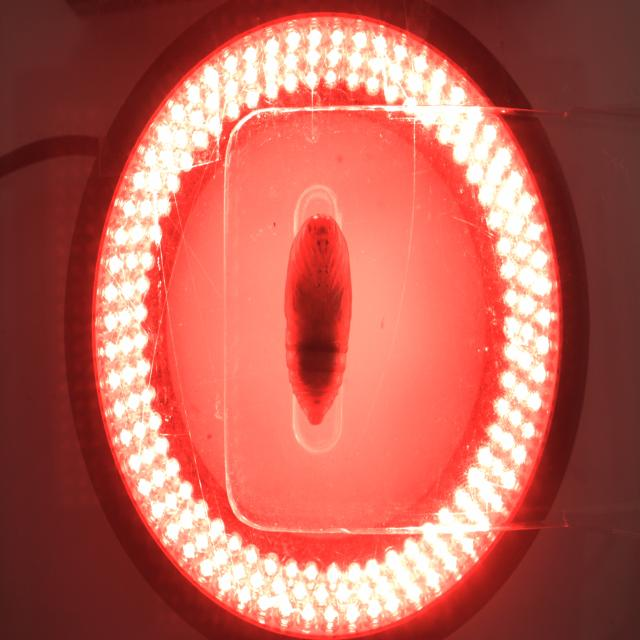male: (311, 396, 325, 410)
